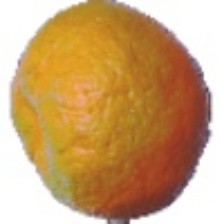tangerine: (51, 18, 203, 206)
